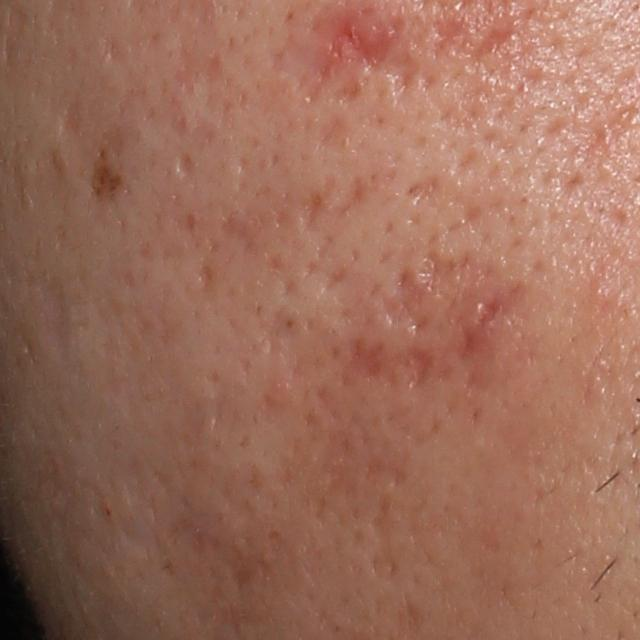atrophic_scar: (297, 0, 410, 97), (373, 248, 476, 341), (171, 27, 231, 99), (465, 21, 533, 71), (38, 275, 76, 364), (341, 334, 395, 388), (202, 368, 233, 437), (431, 12, 472, 60), (399, 343, 435, 395), (298, 185, 329, 236), (403, 171, 448, 203), (317, 114, 351, 152), (58, 102, 86, 138), (197, 252, 218, 292), (173, 147, 194, 180), (100, 30, 122, 61)
melasma: (88, 155, 126, 202)
